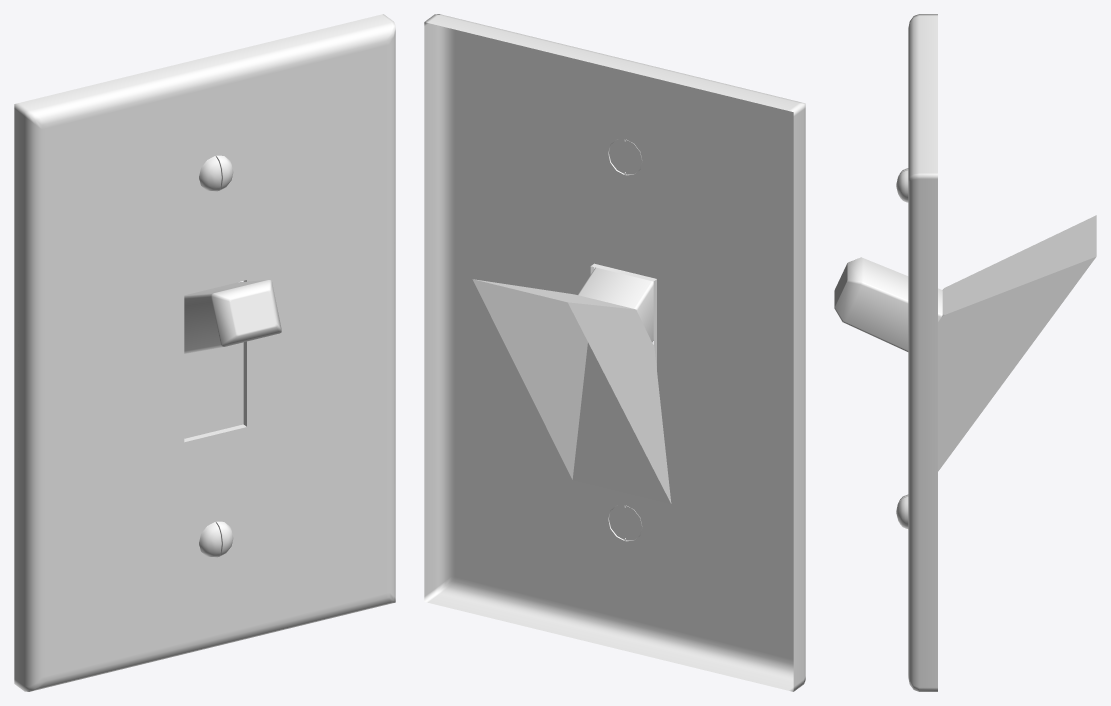
The model's file is LightSwitchSingle.fbx.
The picture shows the model from 3 angles, left to right: view 1: azimuth 30°, elevation 25°; view 2: azimuth 150°, elevation 25°; view 3: azimuth 270°, elevation 25°; orthographic projection. The views are drawn at different scales.
Visible parts, largest first — view 1: Plate_LOD0, Switch; view 2: Plate_LOD0, Switch; view 3: Switch, Plate_LOD0.
Part boxes in pixels (x1=…): Plate_LOD0: x1=14, y1=14, x2=395, y2=691; Switch: x1=184, y1=280, x2=281, y2=438; Plate_LOD0: x1=424, y1=14, x2=805, y2=691; Switch: x1=472, y1=267, x2=671, y2=503; Switch: x1=834, y1=215, x2=1096, y2=471; Plate_LOD0: x1=896, y1=14, x2=937, y2=691.
Size of what is drawn, in the model's own units: 26.49 by 39.73 by 18.27.
